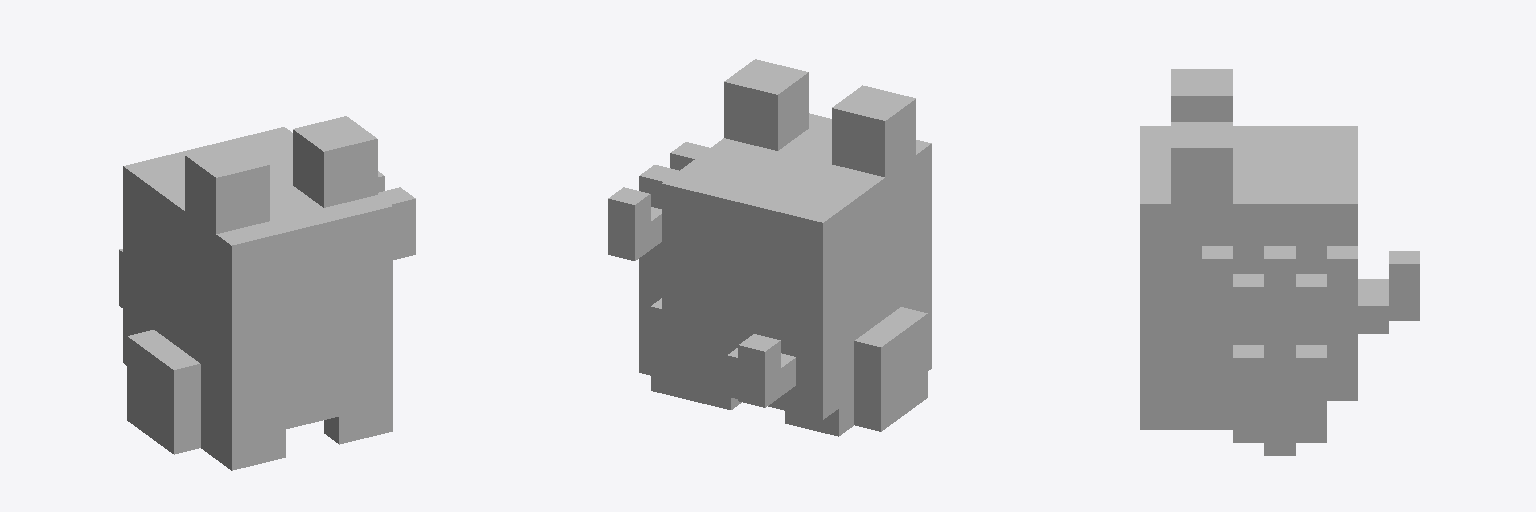
The model's file is enemy.obj.
3 views of the same model, side by side, from view 1: azimuth 30°, elevation 25°; view 2: azimuth 150°, elevation 25°; view 3: azimuth 270°, elevation 25° (orthographic).
Visible parts, largest first — view 1: object 1; view 2: object 1; view 3: object 1.
Boxes of the visible parts, <box> form: object 1: <box>119,116,415,470</box>; object 1: <box>608,59,931,436</box>; object 1: <box>1140,69,1419,455</box>.
Size of the model in its own units: 0.9 by 1 by 0.9.